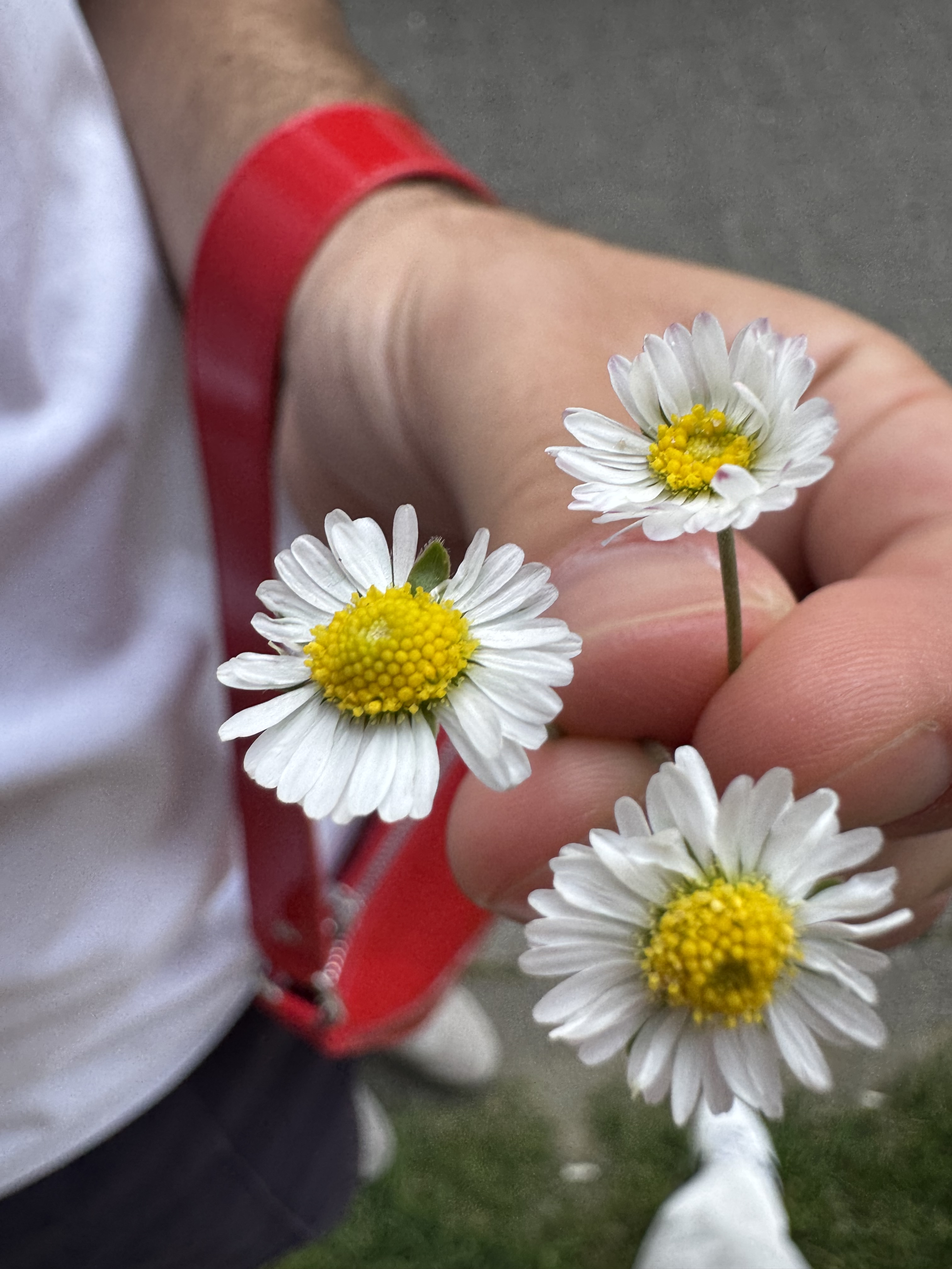daisy: (551, 743, 912, 1123), (207, 500, 570, 833), (542, 307, 843, 554)
